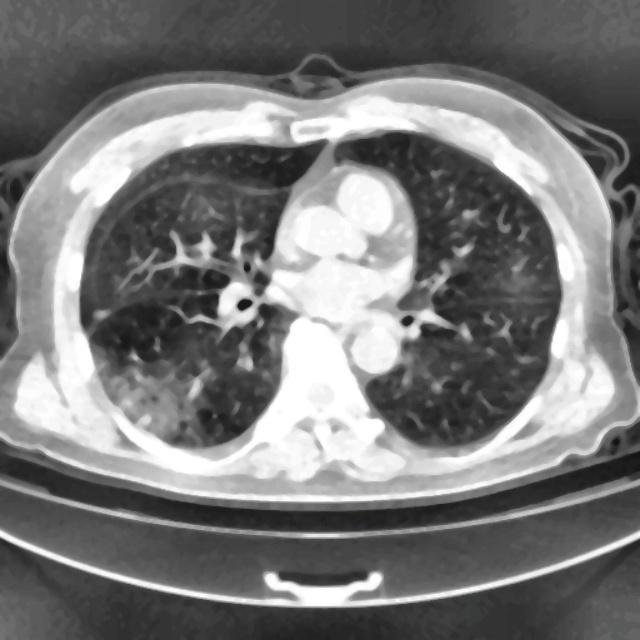covid: (0, 58, 639, 508)
